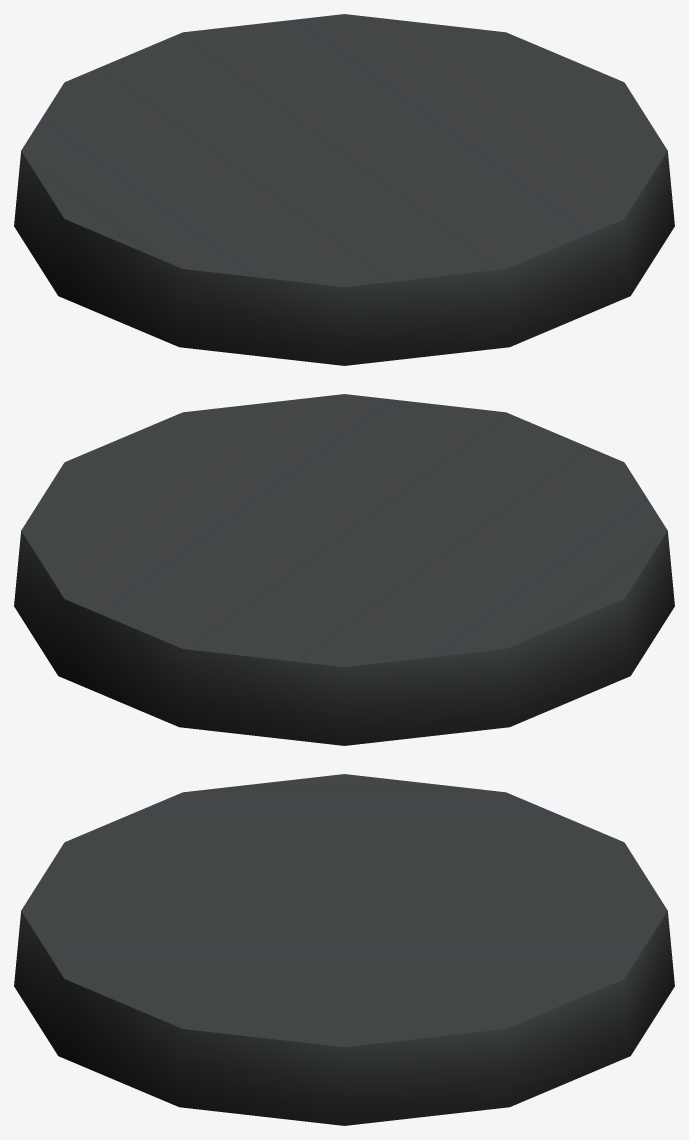
The model's file is KettleBase.fbx.
3 views of the same model, one above another, from view 1: azimuth 30°, elevation 25°; view 2: azimuth 150°, elevation 25°; view 3: azimuth 270°, elevation 25° (orthographic).
Parts seen in each view (by area): view 1: KettleBase; view 2: KettleBase; view 3: KettleBase.
Boxes of the visible parts, bbox=[...] form: KettleBase: bbox=[14, 14, 674, 365]; KettleBase: bbox=[14, 394, 674, 745]; KettleBase: bbox=[14, 774, 674, 1125].
Bounding box in the file's own units: 22.74 × 2.87 × 22.74.
